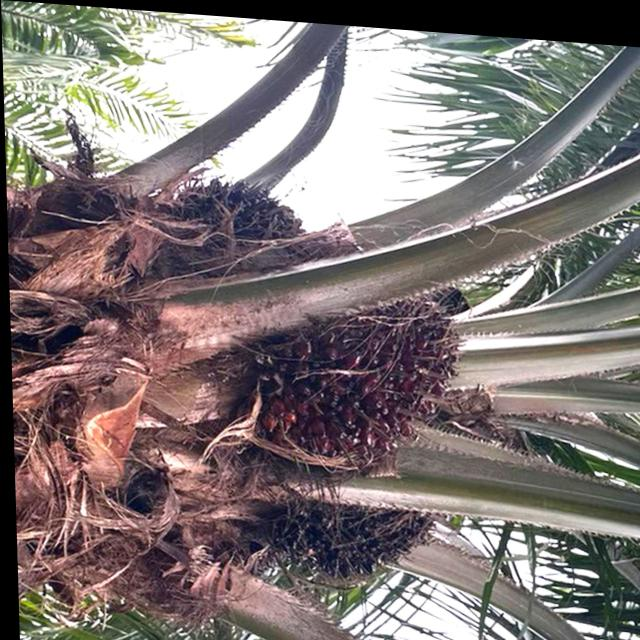ripe: (261, 270, 473, 472), (273, 477, 441, 582), (176, 169, 310, 243)
